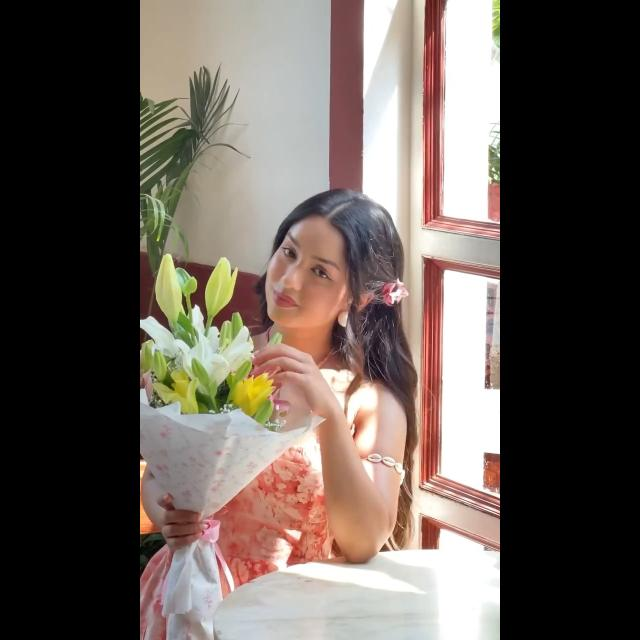ear ring: (336, 308, 352, 328)
